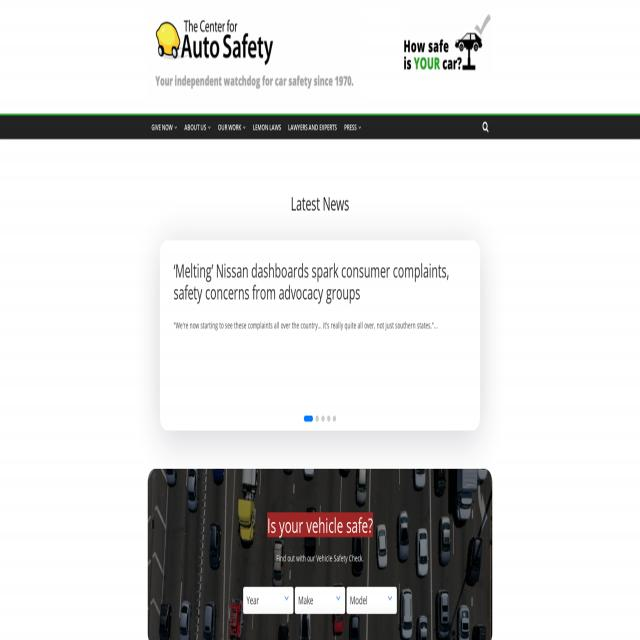button: (159, 241, 480, 432), (147, 467, 492, 640), (148, 11, 362, 100), (402, 11, 492, 74), (285, 115, 341, 138), (214, 116, 250, 139), (249, 116, 285, 139), (147, 116, 180, 139), (181, 116, 214, 139), (340, 116, 364, 139), (477, 116, 495, 139)
field: (243, 587, 293, 614), (295, 587, 345, 614), (347, 587, 397, 614)
